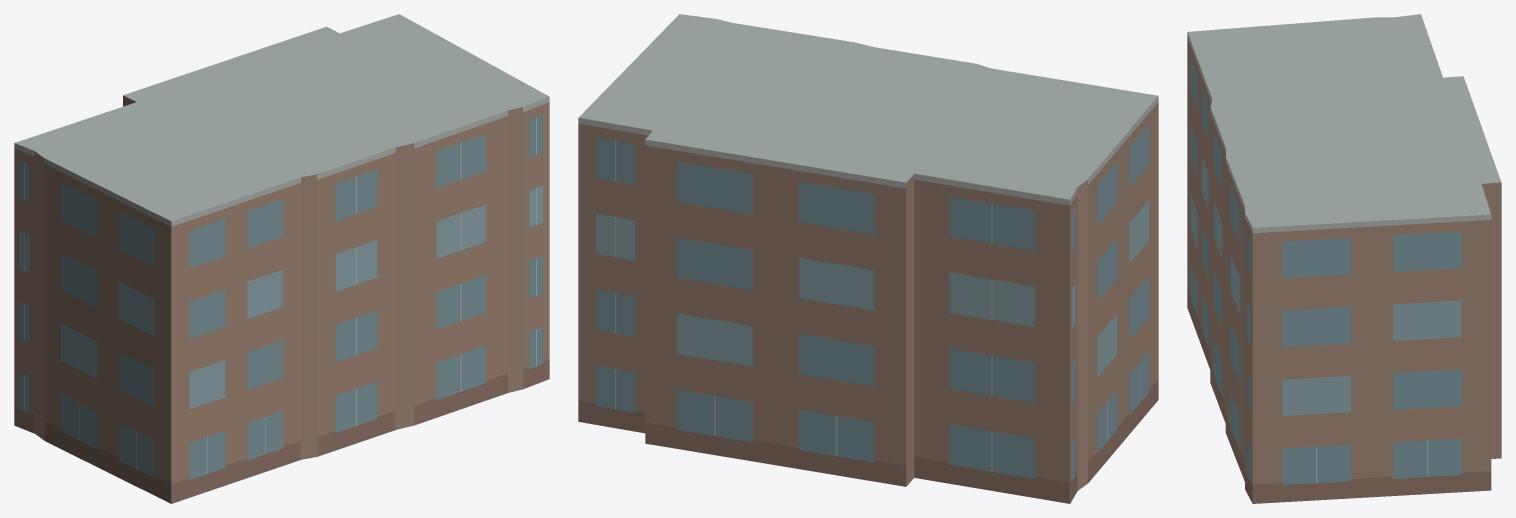
The model's file is survey-upis-33033198.glb.
3 views of the same model, side by side, from view 1: azimuth 30°, elevation 25°; view 2: azimuth 150°, elevation 25°; view 3: azimuth 270°, elevation 25° (orthographic). The views are drawn at different scales.
Parts seen in each view (by area): view 1: survey-upis-33033198.tmp; view 2: survey-upis-33033198.tmp; view 3: survey-upis-33033198.tmp.
Boxes of the visible parts, bbox=[...] form: survey-upis-33033198.tmp: bbox=[14, 14, 549, 503]; survey-upis-33033198.tmp: bbox=[578, 14, 1158, 503]; survey-upis-33033198.tmp: bbox=[1187, 14, 1501, 503].
Bounding box in the file's own units: 20.97 × 12.6 × 13.01.
